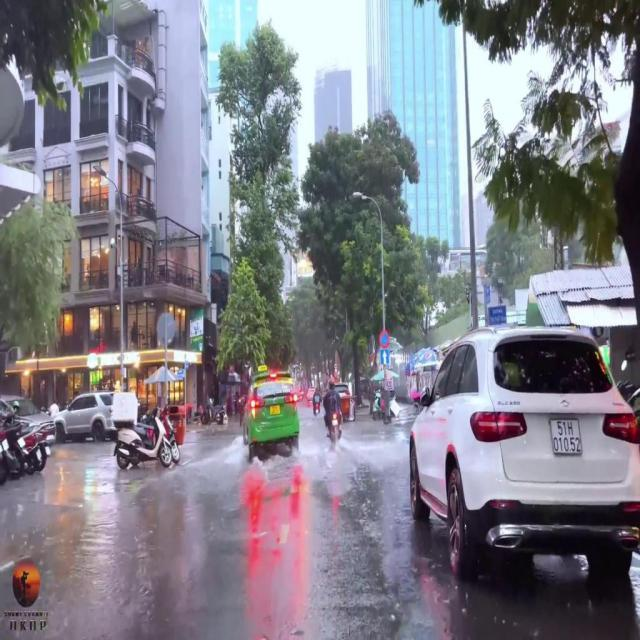407a-duong-mot-chieu: (380, 348, 390, 366)
